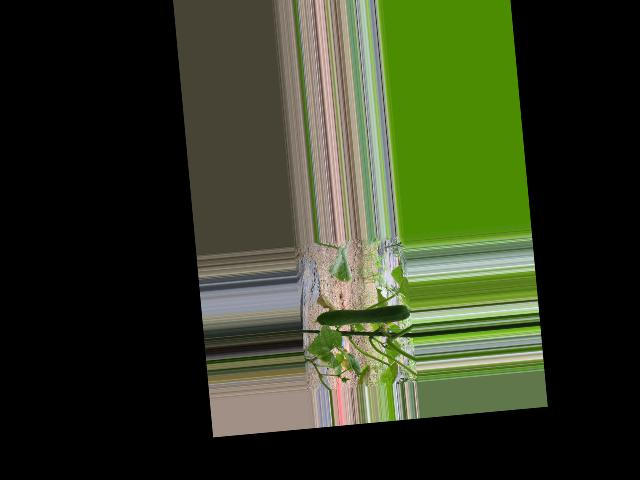cucumber: (313, 303, 410, 329)
